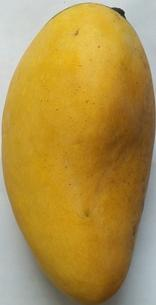Ripe: (0, 1, 156, 305)
